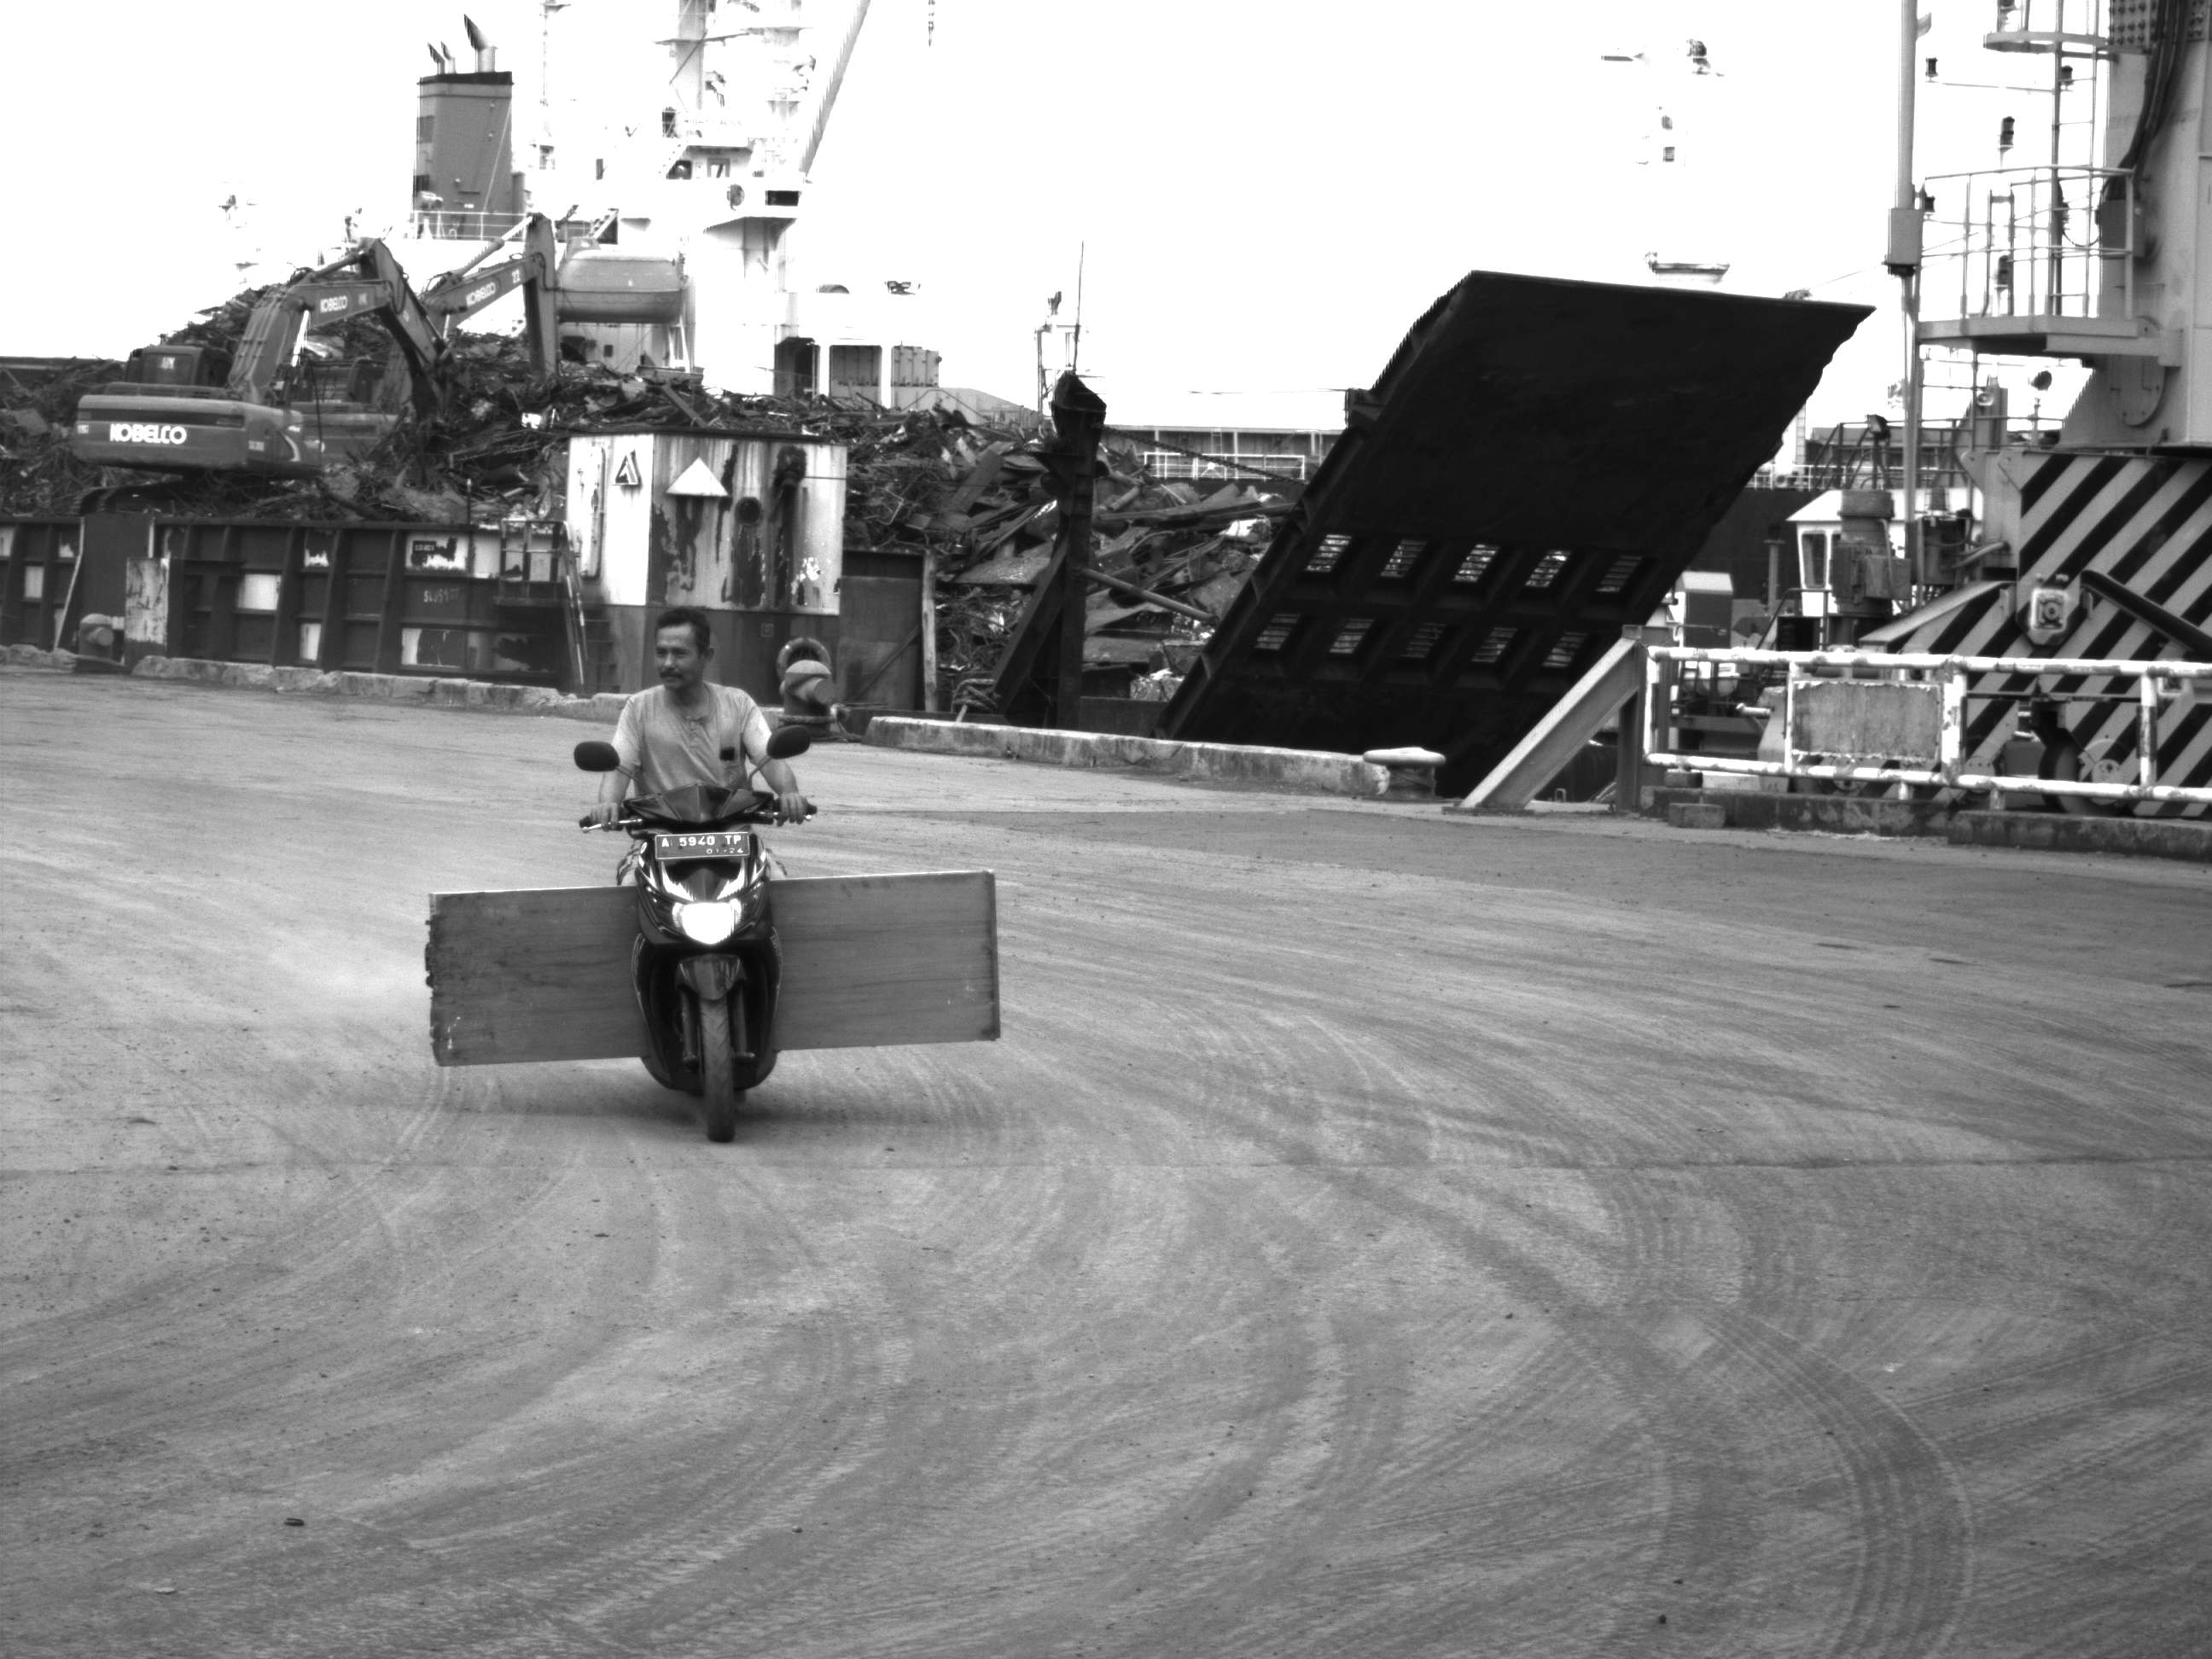motor_bike: (574, 735, 820, 1165)
person: (569, 599, 825, 802)
